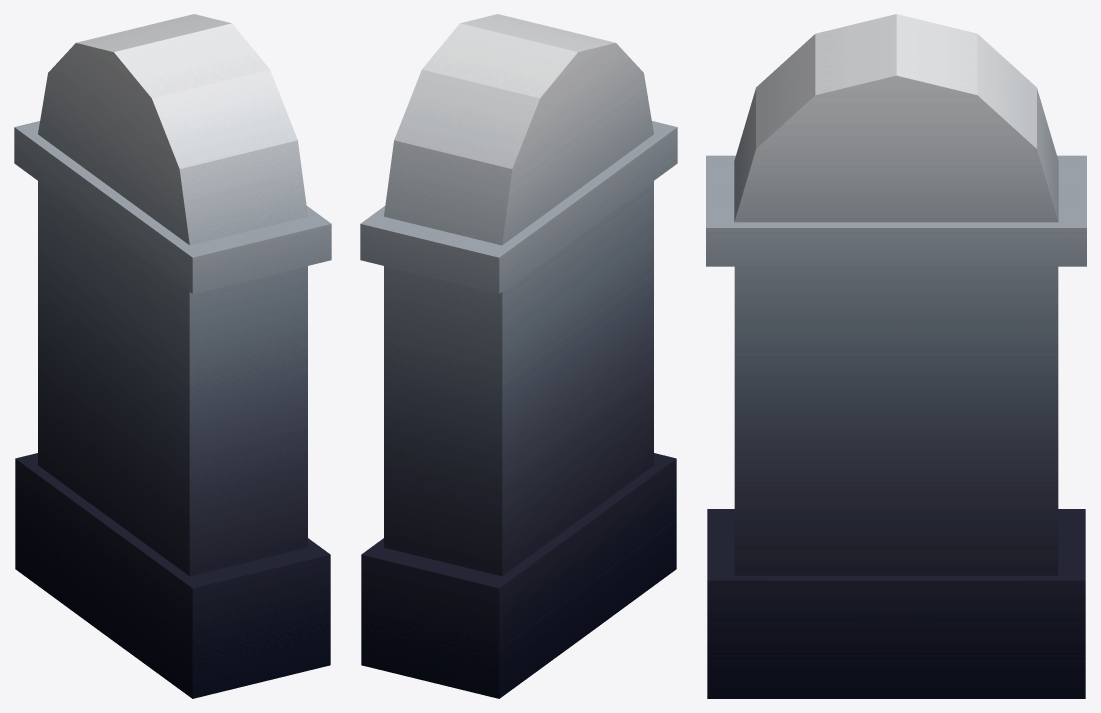
Rendered from Grave.fbx.
3 views of the same model, side by side, from view 1: azimuth 30°, elevation 25°; view 2: azimuth 150°, elevation 25°; view 3: azimuth 270°, elevation 25° (orthographic). The views are drawn at different scales.
Parts seen in each view (by area): view 1: pCylinder21; view 2: pCylinder21; view 3: pCylinder21.
Boxes of the visible parts, x1,y1,x2,y2 form: pCylinder21: (14,14,331,698); pCylinder21: (360,14,677,698); pCylinder21: (706,14,1086,698).
Bounding box in the file's own units: 4.28 × 17 × 9.49.
1 material, 1 textured.
